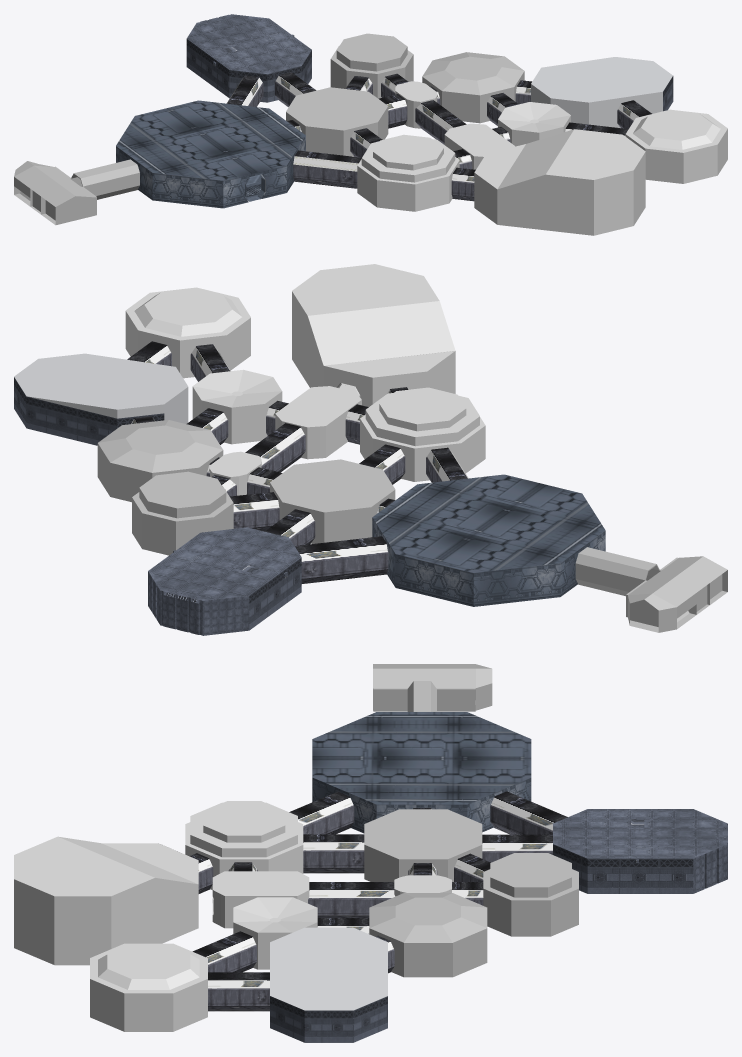
The model's file is RoomsAndHallways.fbx.
The picture shows the model from 3 angles, top to bottom: view 1: azimuth 30°, elevation 25°; view 2: azimuth 150°, elevation 25°; view 3: azimuth 270°, elevation 25°; orthographic projection. The views are drawn at different scales.
Visible parts, largest first — view 1: Circle.019, Circle.010, Circle.018, Circle.014, Circle.015, Circle.011, Circle.017, Circle.013, Circle.016, Cube.040, Circle.012, Cube.036 (+13 smaller); view 2: Circle.019, Circle.010, Circle.018, Circle.014, Circle.015, Circle.011, Circle.017, Circle.013, Circle.016, Cube.040, Circle.012, Cube.046 (+12 smaller); view 3: Circle.010, Circle.019, Circle.018, Circle.014, Circle.011, Circle.013, Circle.016, Circle.015, Circle.017, Cube.040, Circle.012, Cube.046 (+10 smaller).
Part boxes in pixels (x1,y1,x2,y2): Circle.019: (116, 100, 305, 208); Circle.010: (474, 129, 645, 235); Circle.018: (186, 14, 311, 102); Circle.014: (531, 57, 673, 128); Circle.015: (357, 134, 459, 211); Circle.011: (625, 109, 727, 183); Circle.017: (286, 87, 388, 156); Circle.013: (422, 52, 524, 123); Circle.016: (330, 33, 413, 98); Cube.040: (14, 161, 96, 225); Circle.012: (498, 102, 570, 146); Cube.036: (293, 150, 361, 188); Circle.019: (372, 474, 605, 606); Circle.010: (292, 264, 455, 406); Circle.018: (148, 527, 301, 635); Circle.014: (14, 353, 188, 445); Circle.015: (360, 387, 485, 481); Circle.011: (125, 287, 250, 378); Circle.017: (270, 459, 395, 543); Circle.013: (97, 420, 223, 502); Circle.016: (132, 471, 233, 555); Cube.040: (626, 556, 727, 632); Circle.012: (192, 369, 282, 444); Cube.046: (275, 386, 361, 459); Circle.010: (14, 836, 198, 965); Circle.019: (312, 712, 531, 833); Circle.018: (553, 809, 727, 893); Circle.014: (270, 927, 387, 1042); Circle.011: (90, 943, 207, 1031); Circle.013: (369, 893, 487, 977); Circle.016: (483, 853, 578, 936); Circle.015: (185, 801, 303, 889); Circle.017: (364, 809, 482, 881); Cube.040: (373, 664, 492, 711); Circle.012: (233, 897, 317, 969); Cube.046: (212, 871, 309, 928).
Bounding box in the file's own units: 462 × 42.34 × 391.
